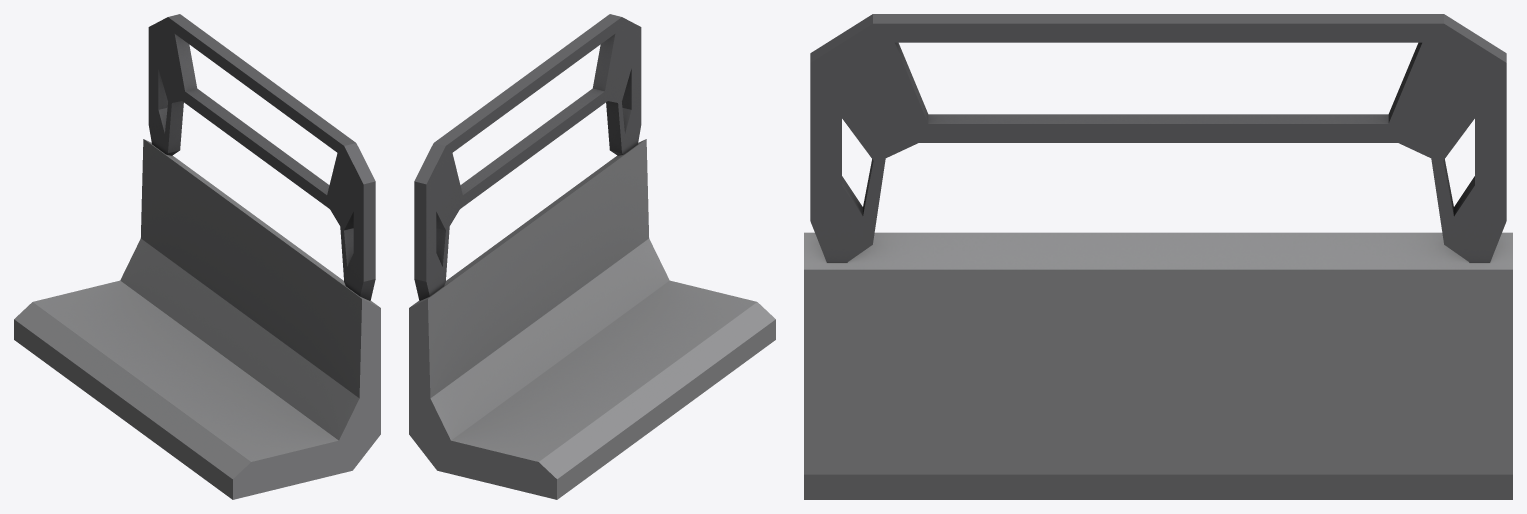
The model's file is RotatingPlatformWallandBarrier.fbx.
The picture shows the model from 3 angles, left to right: view 1: azimuth 30°, elevation 25°; view 2: azimuth 150°, elevation 25°; view 3: azimuth 270°, elevation 25°; orthographic projection. The views are drawn at different scales.
Visible parts, largest first — view 1: Wall Parts Model - High Res 012; view 2: Wall Parts Model - High Res 012; view 3: Wall Parts Model - High Res 012.
Part boxes in pixels (x1,y1,x2,y2): Wall Parts Model - High Res 012: (14, 14, 380, 499); Wall Parts Model - High Res 012: (409, 14, 775, 499); Wall Parts Model - High Res 012: (804, 14, 1512, 499).
Bounding box in the file's own units: 93.8 × 185 × 240.
